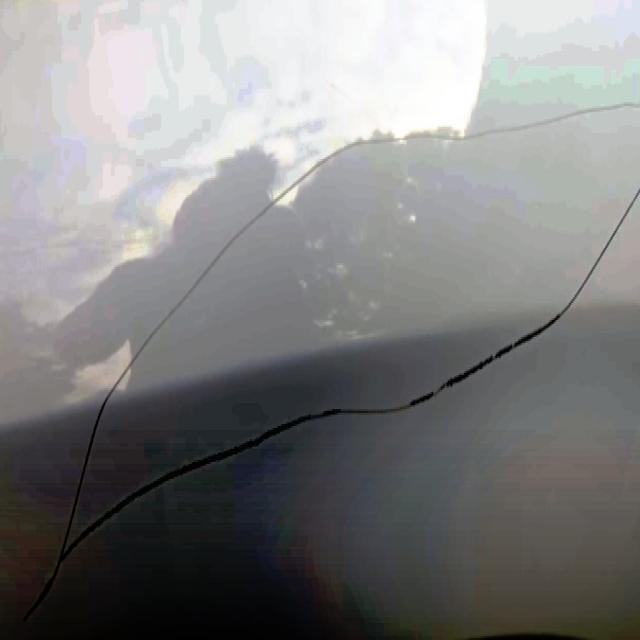crack: (96, 94, 516, 441), (101, 295, 574, 541)
